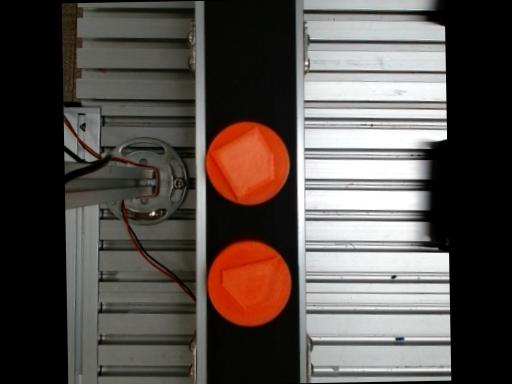Not_Square: (210, 126, 273, 200), (220, 256, 278, 310)
Orange_Waper: (207, 241, 290, 327), (206, 122, 288, 205)
